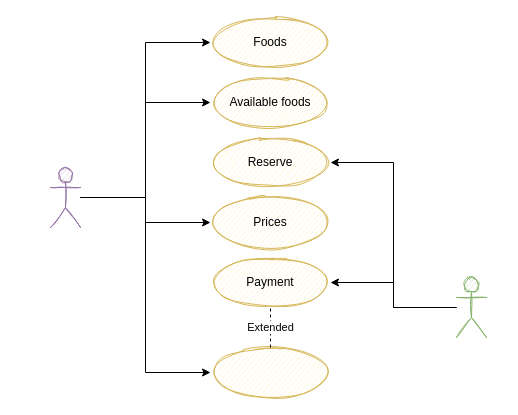
The diagram is 518 pixels wide and 415 high, and some of its shapes have lost their labels. The centre of each missing label's shape, as x and y in pixels:
"Persons as Customers" goes at pixel 471 307.
"Self_Service man" goes at pixel 65 197.
"verification" goes at pixel 270 372.
